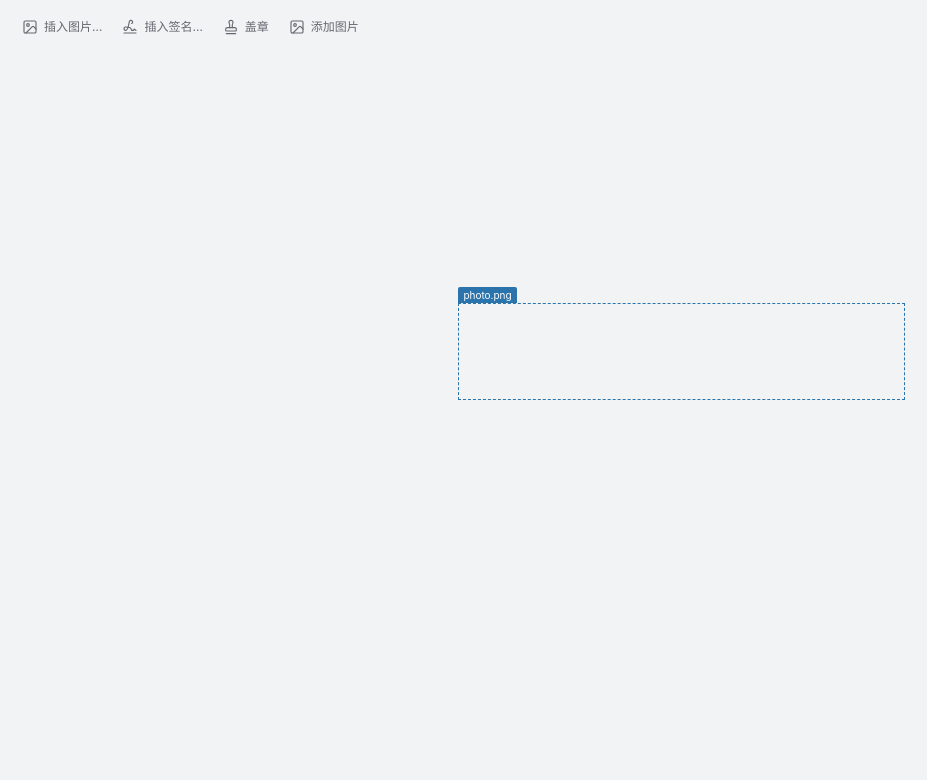
Test: PageImageLayer › explains why an image cannot get a link without annotation permission
Press the mouse on the element with test id "image-outline-1" at (682, 351), box [458,303,905,400]
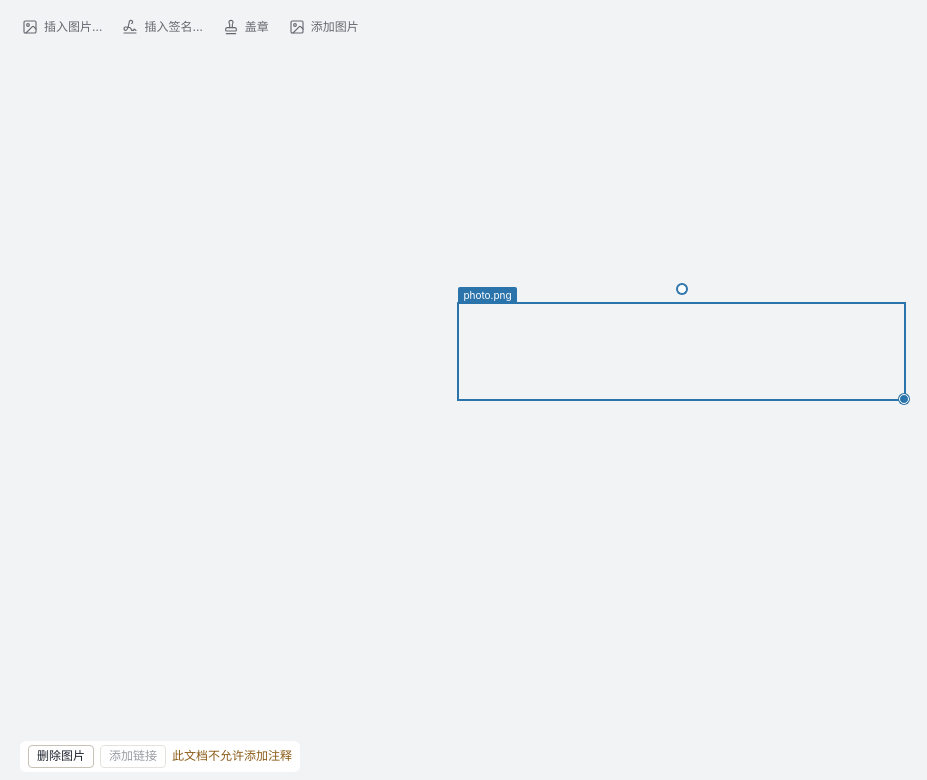
Check: the button "添加链接" is disabled, box [100,745,166,768]
Check: the text "此文档不允许添加注释" is shown, box [172,748,292,765]
